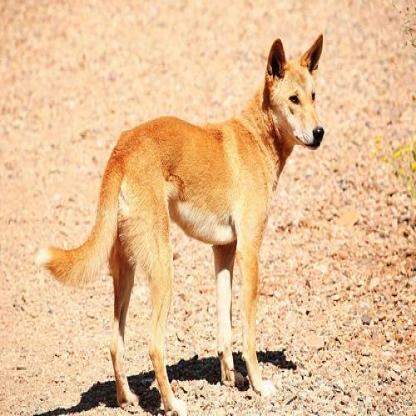dingo: (32, 30, 323, 413)
